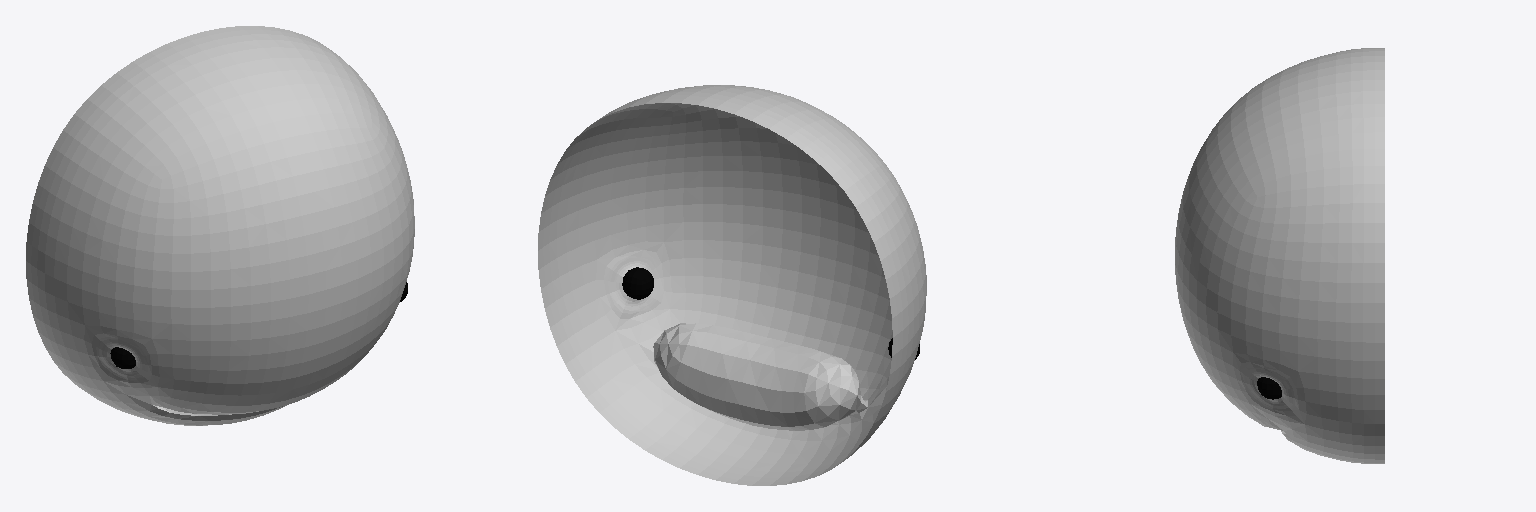
Rendered from World_Head.obj.
3 views of the same model, side by side, from view 1: azimuth 30°, elevation 25°; view 2: azimuth 150°, elevation 25°; view 3: azimuth 270°, elevation 25° (orthographic).
Visible parts, largest first — view 1: Cube; view 2: Cube, Cube.004; view 3: Cube.
Boxes of the visible parts, <box> form: Cube: <box>26,26,414,425</box>; Cube: <box>538,85,926,485</box>; Cube.004: <box>622,267,653,299</box>; Cube: <box>1175,48,1384,463</box>.
Bounding box in the file's own units: 3236 × 3235 × 1664.